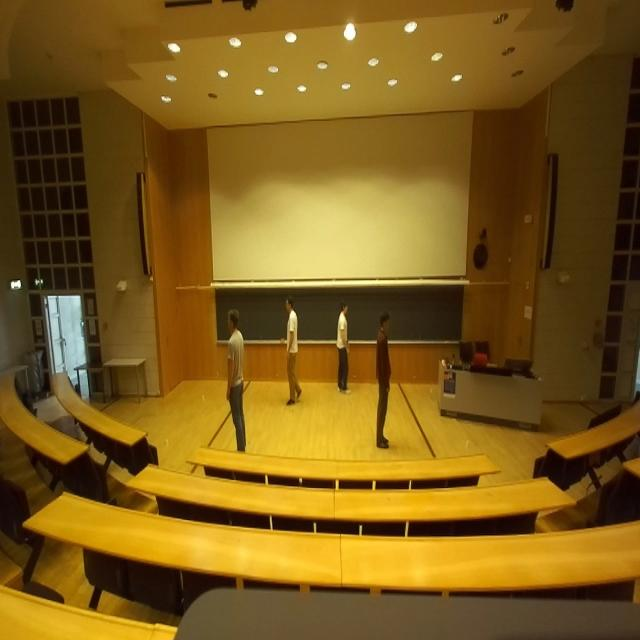person: (226, 309, 246, 452), (375, 311, 391, 448), (286, 295, 302, 405), (337, 299, 351, 394)
